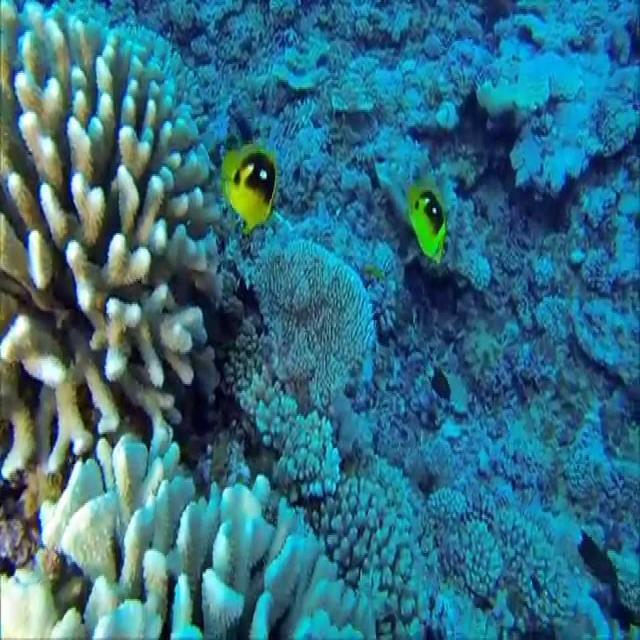ButterflyFish: (396, 182, 460, 302), (224, 141, 290, 230)
